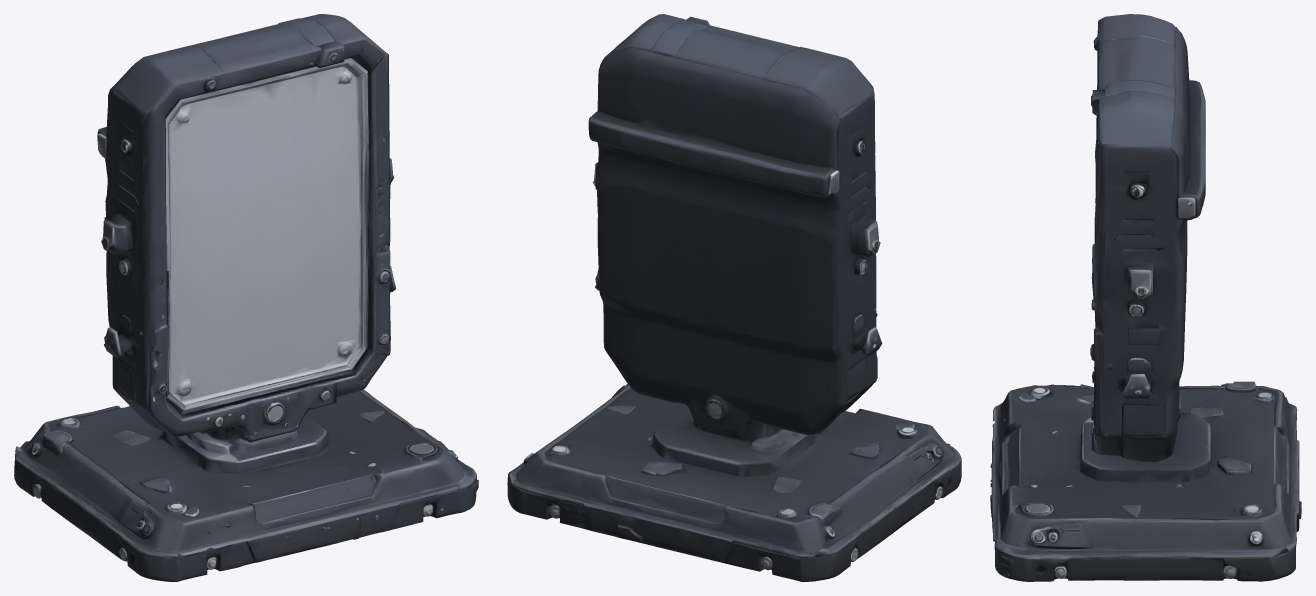
The model's file is tripo_convert_f91ce898-41a7-458b-94c3-5f09dfb735c7.fbx.
3 views of the same model, side by side, from view 1: azimuth 30°, elevation 25°; view 2: azimuth 150°, elevation 25°; view 3: azimuth 270°, elevation 25° (orthographic). The views are drawn at different scales.
Parts seen in each view (by area): view 1: tripo_node_f91ce898; view 2: tripo_node_f91ce898; view 3: tripo_node_f91ce898.
Part boxes in pixels (bbox=[...]): tripo_node_f91ce898: bbox=[14, 14, 478, 581]; tripo_node_f91ce898: bbox=[507, 14, 961, 581]; tripo_node_f91ce898: bbox=[990, 14, 1301, 581].
Bounding box in the file's own units: 0.7545 × 0.9782 × 0.6191.
Materials: 1 (1 with a texture image).
